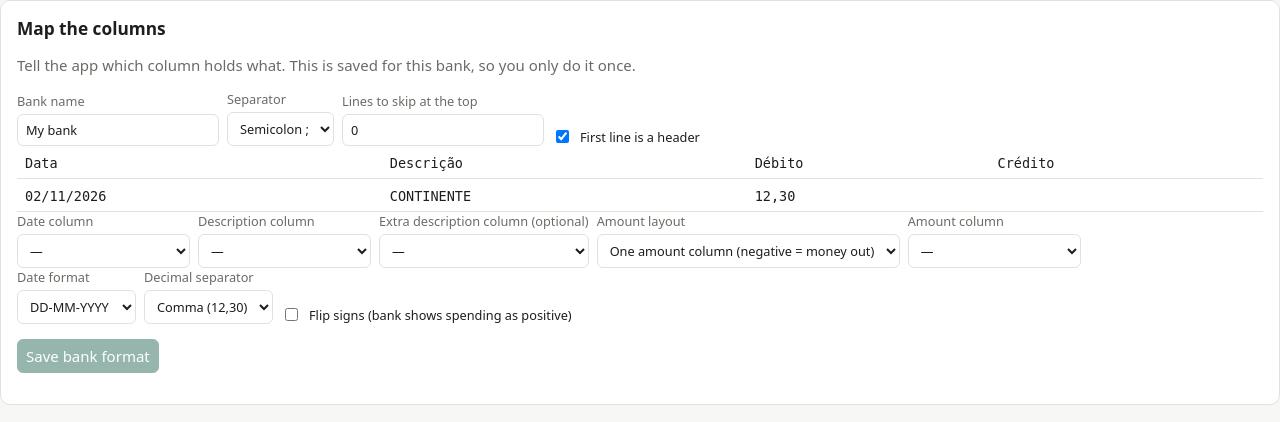
ColumnMapper › debit/credit mode hides the amount column and needs both columns before saving
Later steps or results of the test are not shown.
Step 1. Select "Column 1 — Data" in the dropdown labelled "Date column" → (104, 251), box [17,234,190,268]
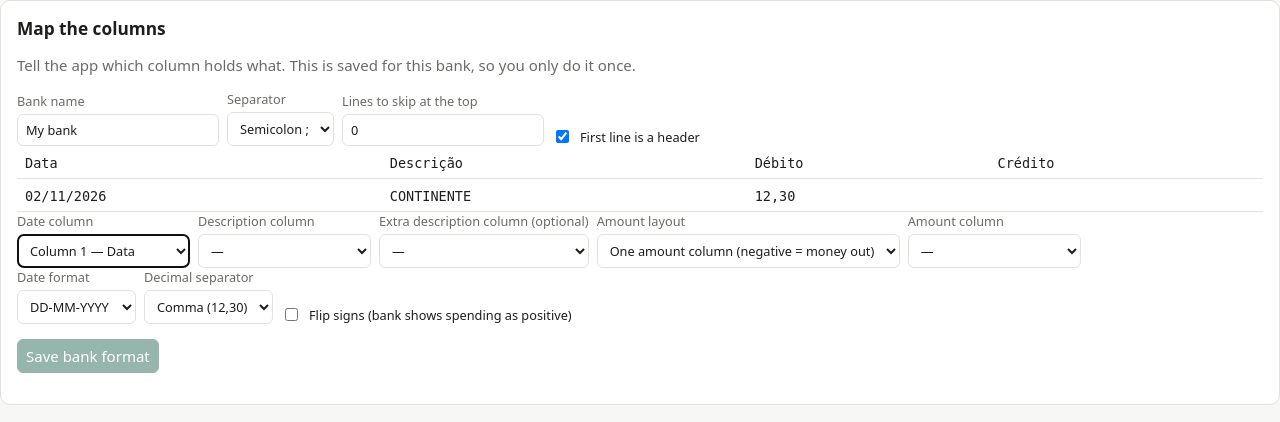
Step 2. Select "Column 2 — Descrição" in the dropdown labelled "Description column" → (284, 251), box [198,234,371,268]
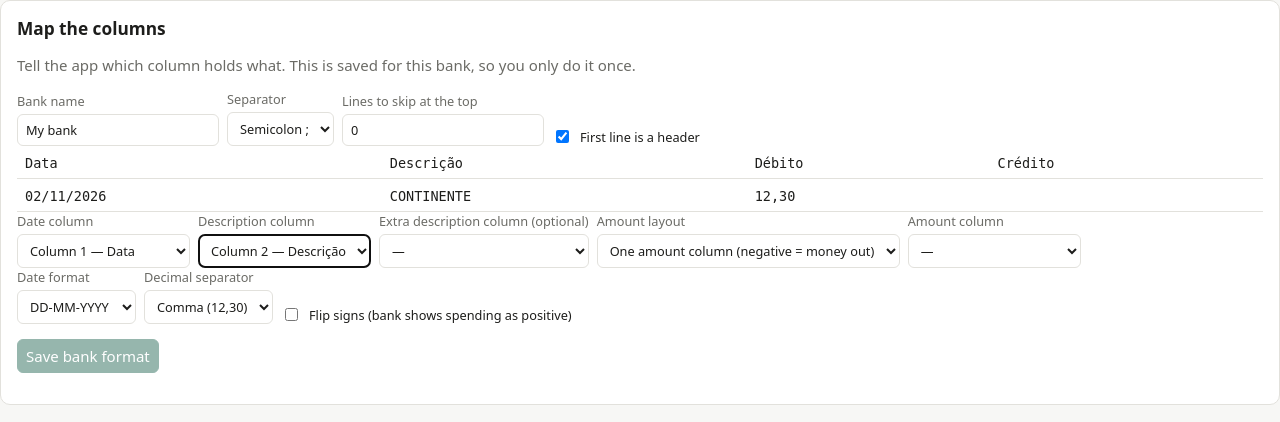
Expected: the dropdown labelled "Amount column" is shown, [908,234,1081,268]
Step 3. Select "Separate debit and credit columns" in the dropdown labelled "Amount layout" → (748, 251), box [597,234,900,268]
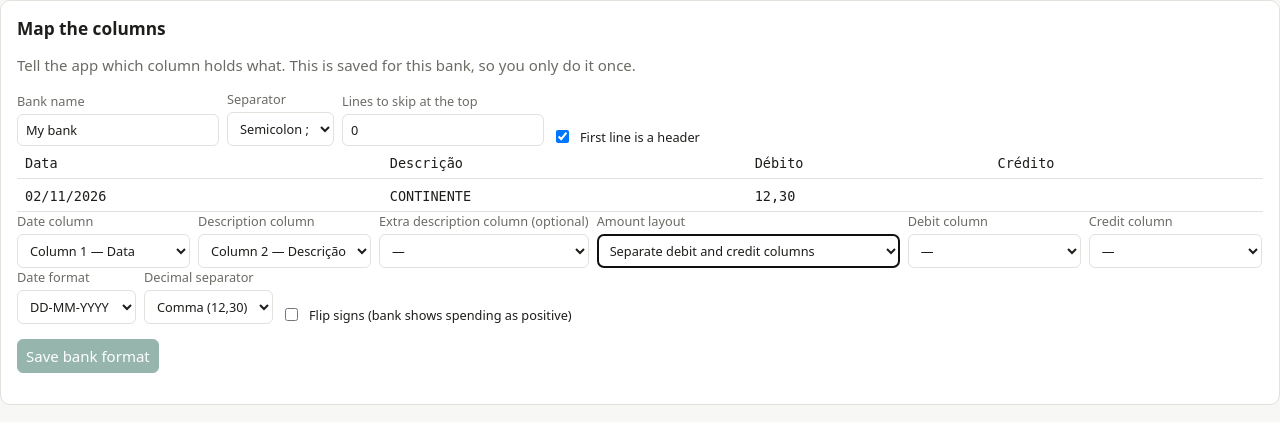
Expected: the button "Save bank format" is disabled, [17,339,159,373]
Now the label labelled "Amount column" is gone
Step 4. Select "Column 3 — Débito" in the dropdown labelled "Debit column" → (994, 251), box [908,234,1081,268]
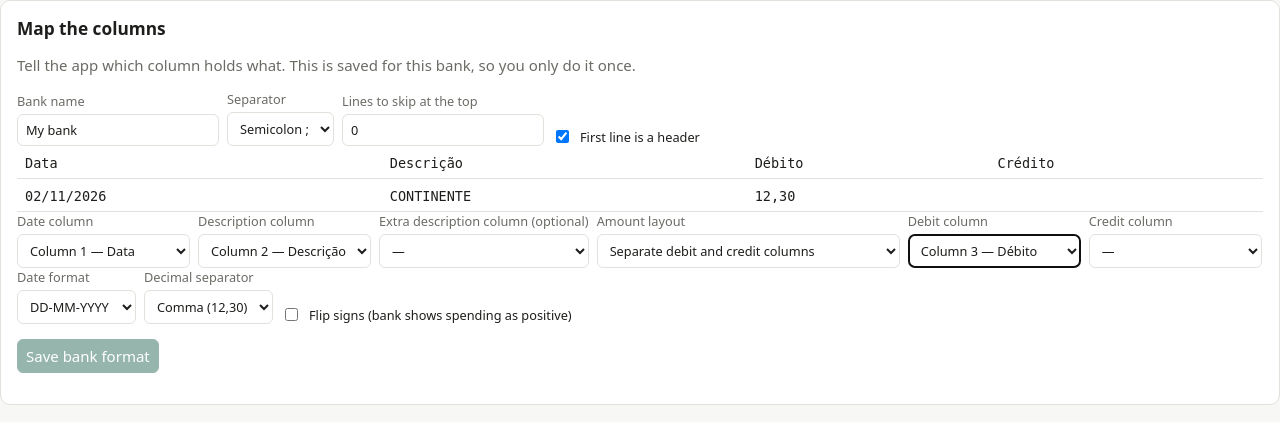
Expected: the button "Save bank format" is disabled, [17,339,159,373]
Step 5. Select "Column 4 — Crédito" in the dropdown labelled "Credit column" → (1175, 251), box [1089,234,1262,268]
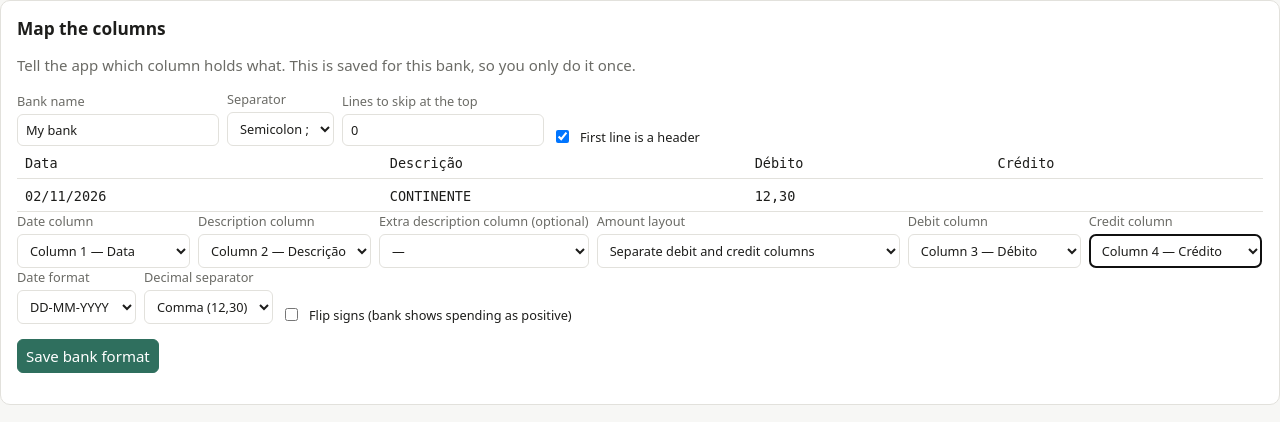
Now the button "Save bank format" is enabled, box [17,339,159,373]
